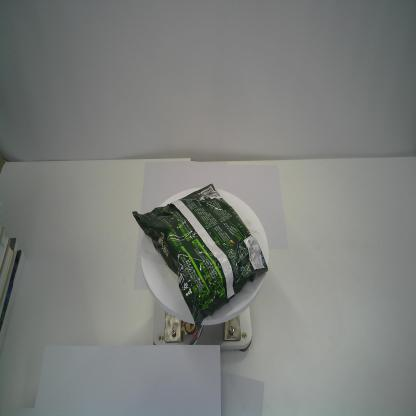Instant Noodles: (129, 182, 269, 334)
